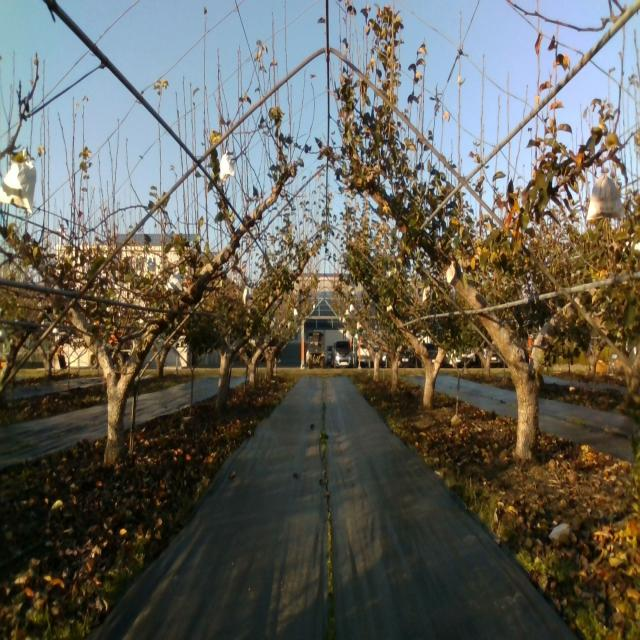pearbags: (0, 150, 37, 214), (586, 170, 624, 220), (220, 154, 234, 186), (165, 268, 182, 293), (446, 260, 458, 288)
